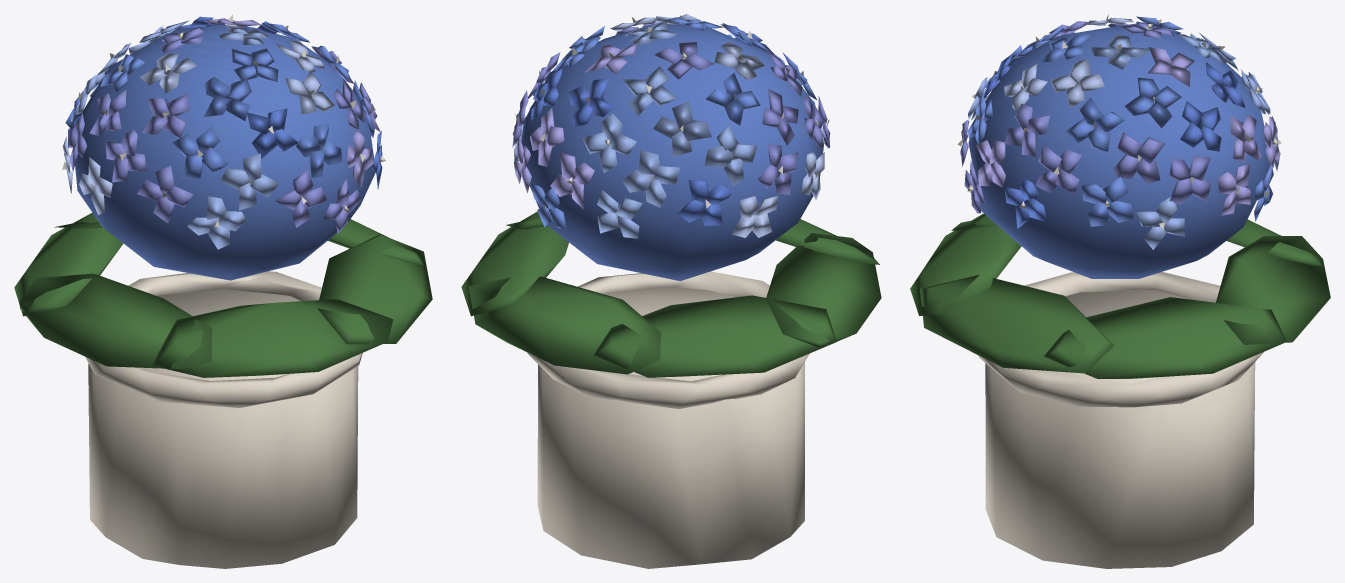
The model's file is keepsake-blue-hydrangea.glb.
3 renders of one model, left to right at view 1: azimuth 30°, elevation 25°; view 2: azimuth 150°, elevation 25°; view 3: azimuth 270°, elevation 25°, orthographic.
Visible parts, largest first — view 1: keepsake-blue-hydrangea; view 2: keepsake-blue-hydrangea; view 3: keepsake-blue-hydrangea.
Boxes of the visible parts, <box> form: keepsake-blue-hydrangea: <box>14,14,432,568</box>; keepsake-blue-hydrangea: <box>461,14,881,568</box>; keepsake-blue-hydrangea: <box>910,15,1330,568</box>.
Bounding box in the file's own units: 0.2395 × 0.3 × 0.2376.
Materials: 1 (1 with a texture image).
